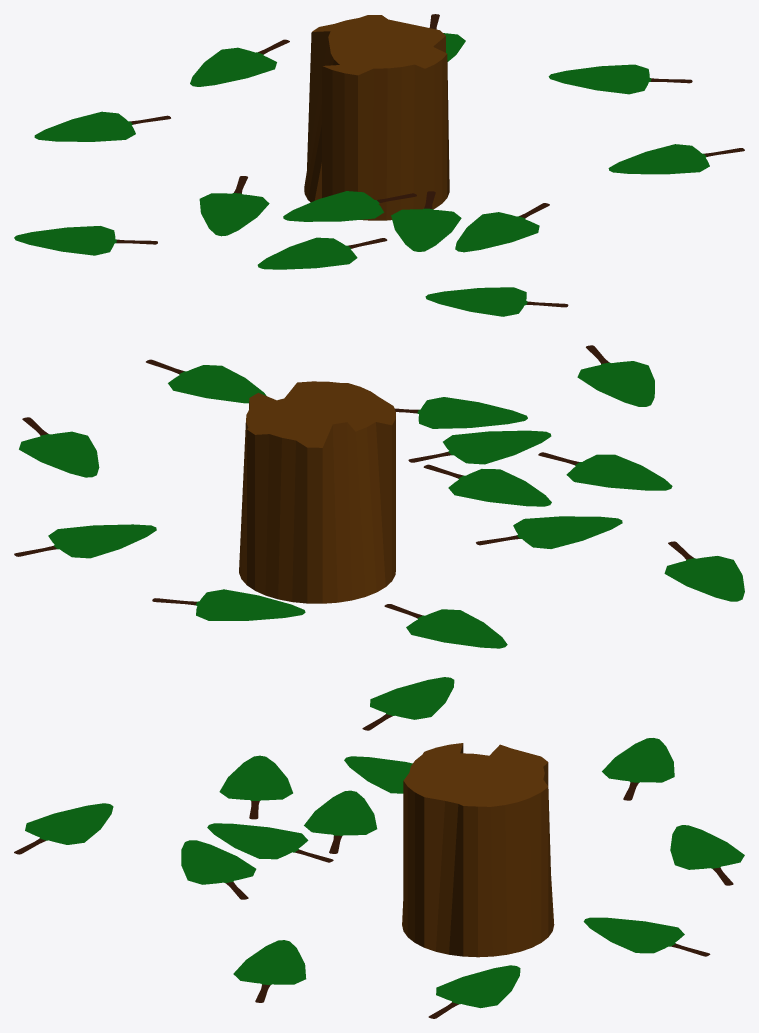
Rendered from treeState1.fbx.
3 views of the same model, one above another, from view 1: azimuth 30°, elevation 25°; view 2: azimuth 150°, elevation 25°; view 3: azimuth 270°, elevation 25° (orthographic). The views are drawn at different scales.
Visible parts, largest first — view 1: Cylinder.004, Plane.010, Plane.006, Plane.004, Plane.011, Plane.001, Plane.003, Plane.009, Plane.005, Plane.008, Plane, Plane.002 (+1 smaller); view 2: Cylinder.004, Plane.002, Plane, Plane.001, Plane.007, Plane.003, Plane.008, Plane.009, Plane.011, Plane.010, Plane.004, Plane.005 (+1 smaller); view 3: Cylinder.004, Plane.007, Plane, Plane.004, Plane.011, Plane.005, Plane.009, Plane.010, Plane.001, Plane.003, Plane.008, Plane.006 (+1 smaller).
Part boxes in pixels (x1=…): Cylinder.004: x1=304, y1=15, x2=449, y2=220; Plane.010: x1=14, y1=226, x2=157, y2=255; Plane.006: x1=608, y1=144, x2=744, y2=174; Plane.004: x1=425, y1=287, x2=568, y2=316; Plane.011: x1=548, y1=64, x2=692, y2=94; Plane.001: x1=257, y1=237, x2=387, y2=269; Plane.003: x1=283, y1=191, x2=416, y2=221; Plane.009: x1=34, y1=111, x2=170, y2=141; Plane.005: x1=455, y1=203, x2=549, y2=252; Plane.008: x1=190, y1=39, x2=289, y2=86; Plane: x1=391, y1=191, x2=461, y2=251; Plane.002: x1=199, y1=176, x2=269, y2=236; Cylinder.004: x1=239, y1=381, x2=395, y2=603; Plane.002: x1=476, y1=516, x2=622, y2=548; Plane: x1=408, y1=430, x2=551, y2=464; Plane.001: x1=538, y1=452, x2=672, y2=490; Plane.007: x1=14, y1=524, x2=156, y2=558; Plane.003: x1=423, y1=464, x2=551, y2=506; Plane.008: x1=152, y1=589, x2=305, y2=620; Plane.009: x1=384, y1=604, x2=507, y2=648; Plane.011: x1=19, y1=417, x2=99, y2=477; Plane.010: x1=664, y1=541, x2=744, y2=601; Plane.004: x1=577, y1=345, x2=654, y2=406; Plane.005: x1=394, y1=397, x2=527, y2=428; Cylinder.004: x1=402, y1=743, x2=554, y2=957; Plane.007: x1=583, y1=917, x2=710, y2=956; Plane: x1=207, y1=823, x2=333, y2=862; Plane.004: x1=14, y1=803, x2=113, y2=854; Plane.011: x1=428, y1=965, x2=520, y2=1018; Plane.005: x1=181, y1=840, x2=256, y2=899; Plane.009: x1=602, y1=738, x2=674, y2=800; Plane.010: x1=362, y1=677, x2=454, y2=730; Plane.001: x1=219, y1=755, x2=292, y2=819; Plane.003: x1=304, y1=790, x2=377, y2=853; Plane.008: x1=670, y1=825, x2=744, y2=885; Plane.006: x1=233, y1=940, x2=306, y2=1002.
Bounding box in the file's own units: 66.23 × 14.56 × 59.83.
